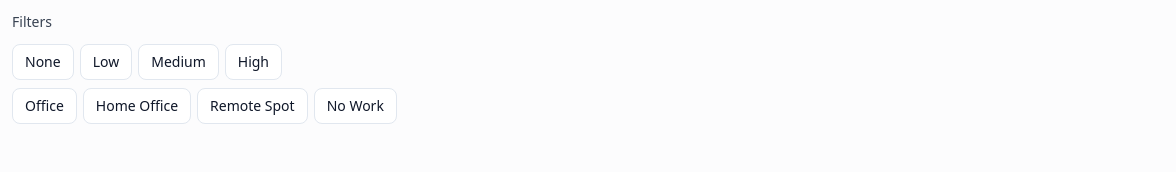
Test: TimelineFilters › shows active filter count badge when filters are active
Click the button "High" at (253, 62), box [225,44,282,80]
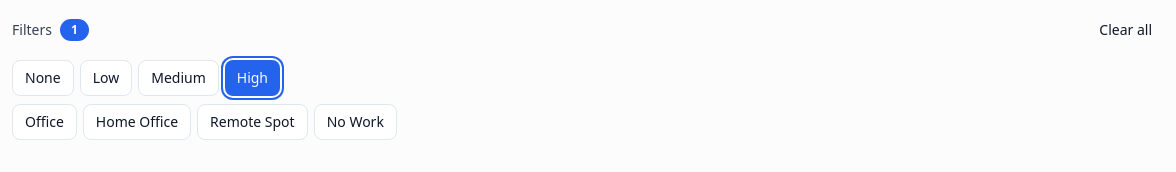
Click the button "Office" at (44, 122), box [12,104,77,140]
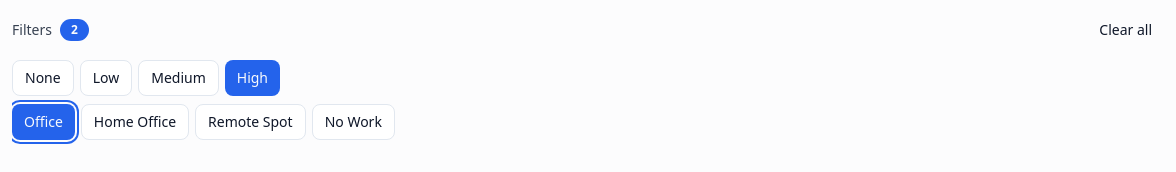
Now the text named "2 active filters" is shown, box [60,19,89,41]
